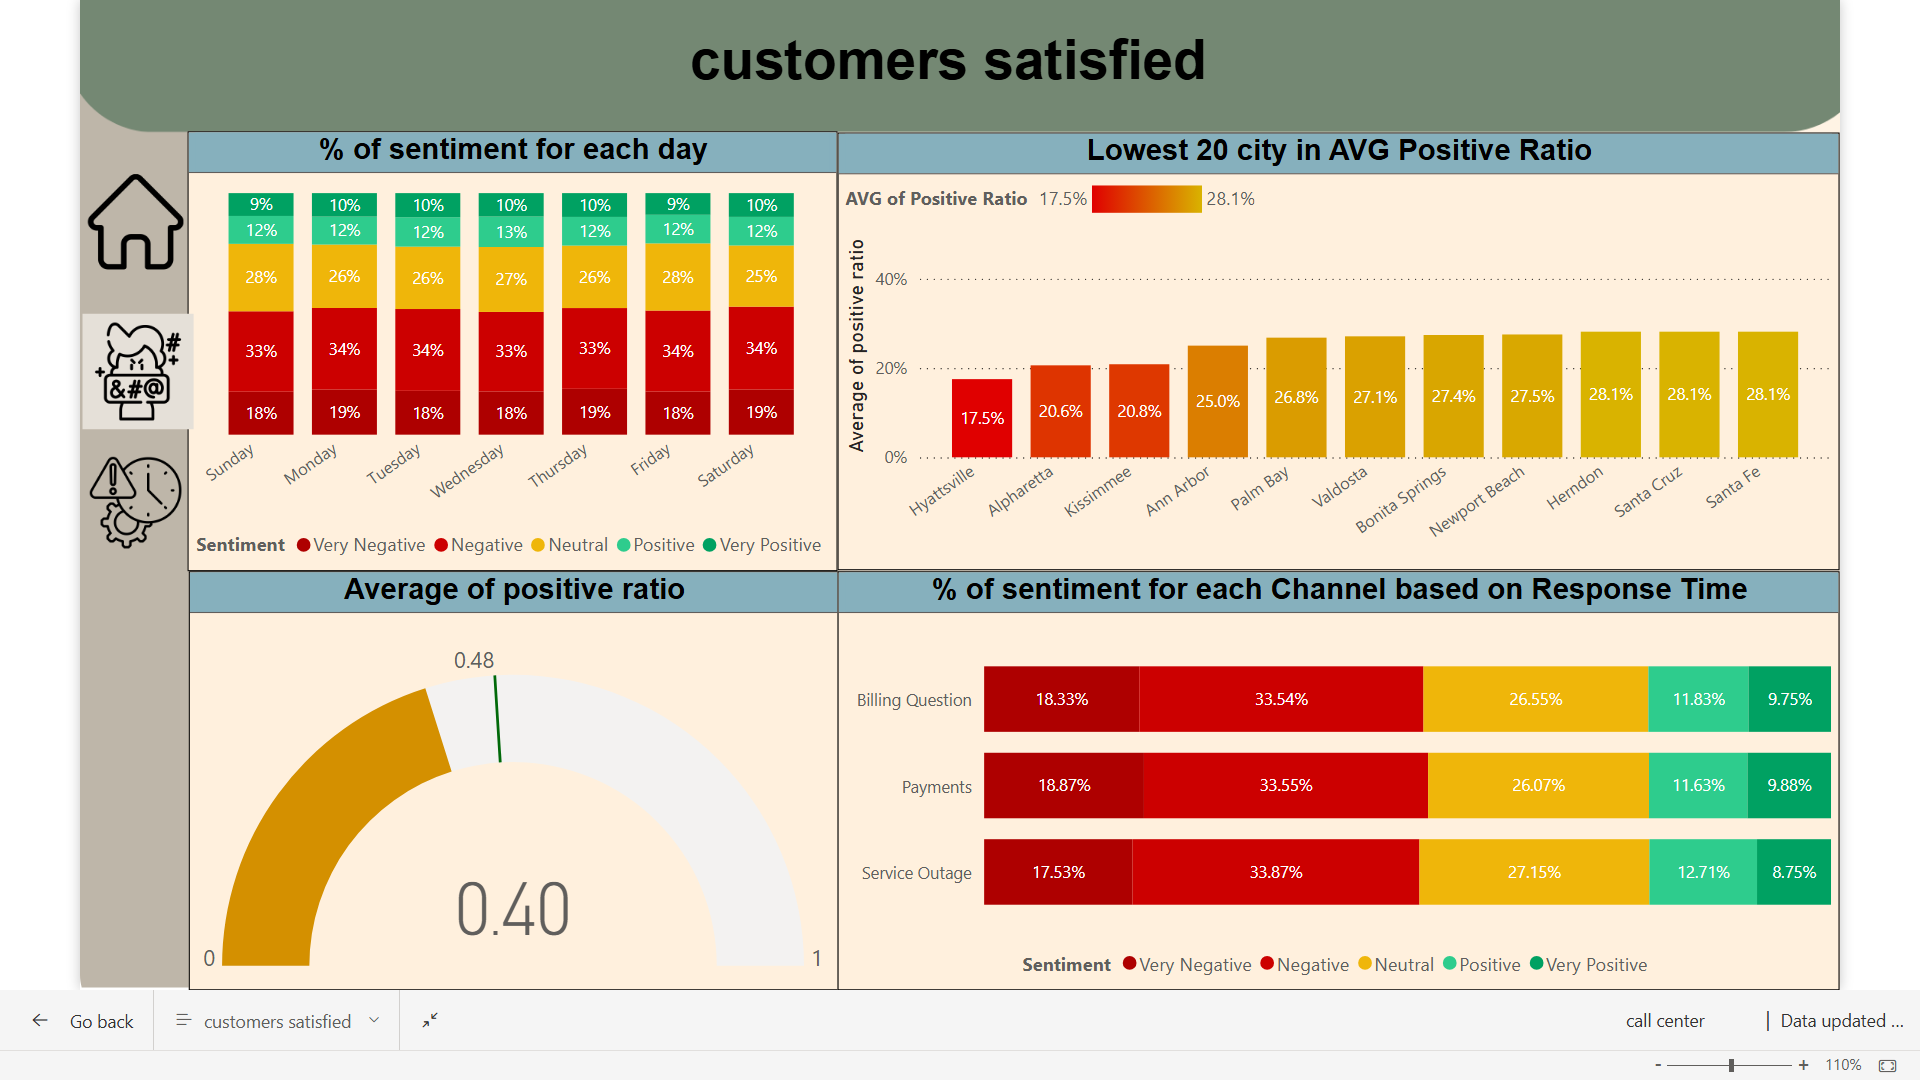

Layout of this report page (visuals, bound fields, positions):
{"tool":"powerbi","page":{"name":"customers satisfied","canvas":[1280,720],"ordinal":1},"visuals":[{"type":"hundredPercentStackedColumnChart","title":"% of sentiment for each day","fields":{"Series":["Sentiment ordering.Sentiment"],"Category":["day ordering.days"],"Y":["CountNonNull(Call Center.Sentiment)"]},"box":[78.6,95.7,472.9,320],"z":0},{"type":"gauge","title":"Average of positive ratio","fields":{"MaxValue":["Call Center.Maximum of satisfying"],"MinValue":["Call Center.Minimum of satisfying"],"Y":["Avg(Call Center.positive ratio)"],"TargetValue":["Call Center.Target"]},"box":[78.8,415,472.5,305],"z":2000},{"type":"clusteredColumnChart","title":"Lowest 20 city in AVG Positive Ratio","fields":{"Category":["Call Center.City"],"Y":["Avg(Call Center.positive ratio)"]},"box":[551.2,96.2,728.8,318.8],"z":3000},{"type":"shape","title":"customers satisfied","box":[443.8,21.2,391.2,55],"z":4000},{"type":"hundredPercentStackedBarChart","title":"% of sentiment for each Channel based on Response Time","fields":{"Series":["Sentiment ordering.Sentiment"],"Y":["CountNonNull(Call Center.Response Time)"],"Category":["Call Center.Reason"]},"box":[551.2,415.1,729.1,304.7],"z":5000},{"type":"image","box":[0,122.1,81,79.6],"z":6000},{"type":"image","box":[1.4,227.8,81,83.7],"z":7000},{"type":"image","box":[0,322.5,81,85.1],"z":8000}]}

Visuals, with their boxes on the page's 1280x720 design canvas (x1, y1, x2, y2). These are canvas units, not pixel positions in the 1920x1080 screenshot, which may show the page scaled, cropped or inside an application window:
"% of sentiment for each day" hundredPercentStackedColumnChart: (x1=79, y1=96, x2=552, y2=416)
"Average of positive ratio" gauge: (x1=79, y1=415, x2=551, y2=720)
"Lowest 20 city in AVG Positive Ratio" clusteredColumnChart: (x1=551, y1=96, x2=1280, y2=415)
"customers satisfied" shape: (x1=444, y1=21, x2=835, y2=76)
"% of sentiment for each Channel based on Response Time" hundredPercentStackedBarChart: (x1=551, y1=415, x2=1280, y2=720)
image: (x1=0, y1=122, x2=81, y2=202)
image: (x1=1, y1=228, x2=82, y2=312)
image: (x1=0, y1=322, x2=81, y2=408)
